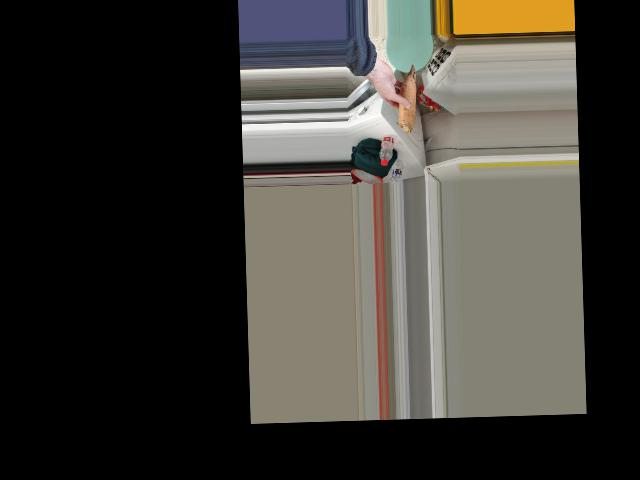sweet_potato: (394, 66, 417, 134)
